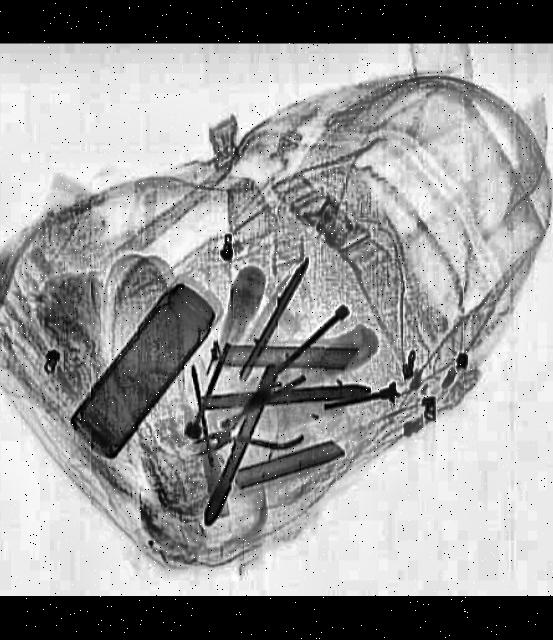Pliers: (183, 374, 330, 475)
